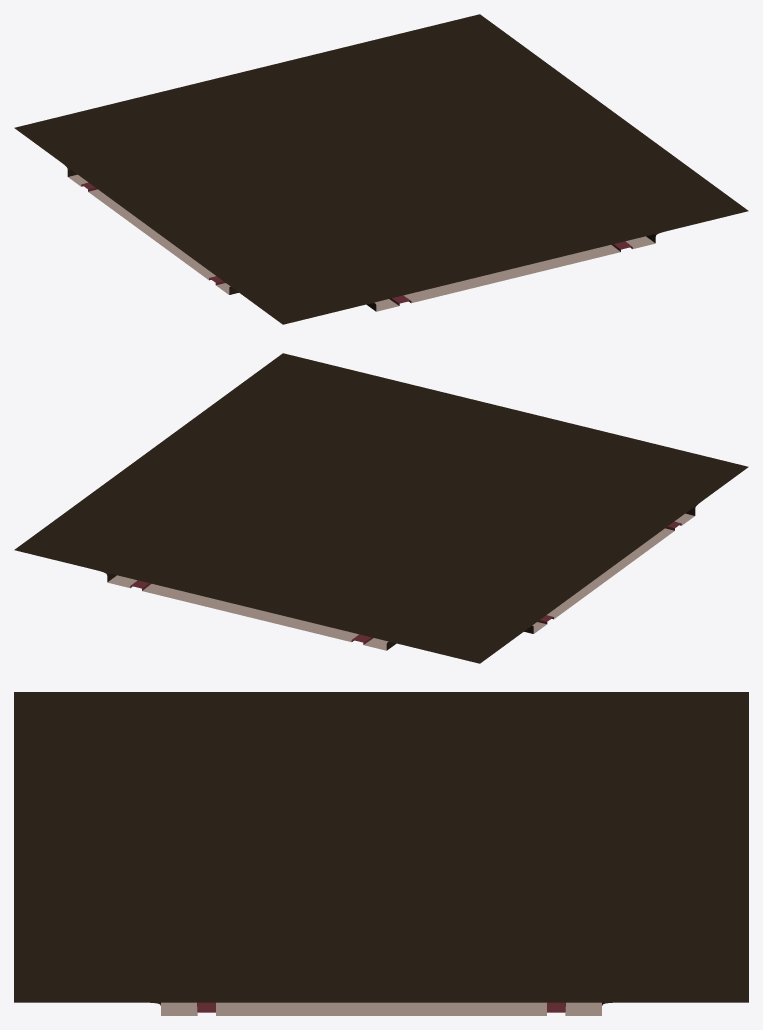
File: Roads.fbx
3 renders of one model, top to bottom at view 1: azimuth 30°, elevation 25°; view 2: azimuth 150°, elevation 25°; view 3: azimuth 270°, elevation 25°, orthographic. The views are drawn at different scales.
Parts seen in each view (by area): view 1: NoRoad, Road0, Road2A, Road2B, Road1, Road3, Road4; view 2: NoRoad, Road0, Road2B, Road2A, Road1, Road3, Road4; view 3: NoRoad, Road0, Road2B, Road2A, Road1, Road3, Road4.
Part boxes in pixels (left/top/right/bottom): NoRoad: left=14, top=15, right=747, bottom=306; Road0: left=14, top=14, right=718, bottom=304; Road2A: left=20, top=15, right=675, bottom=324; Road2B: left=29, top=15, right=668, bottom=301; Road1: left=99, top=17, right=704, bottom=294; Road3: left=17, top=18, right=713, bottom=323; Road4: left=18, top=16, right=748, bottom=311; NoRoad: left=112, top=355, right=744, bottom=663; Road0: left=19, top=354, right=736, bottom=663; Road2B: left=14, top=353, right=734, bottom=662; Road2A: left=17, top=357, right=738, bottom=635; Road1: left=52, top=370, right=747, bottom=638; Road3: left=15, top=354, right=716, bottom=662; Road4: left=65, top=355, right=747, bottom=662; NoRoad: left=14, top=692, right=748, bottom=1002; Road0: left=14, top=692, right=748, bottom=1002; Road2B: left=14, top=692, right=748, bottom=1015; Road2A: left=14, top=692, right=748, bottom=1015; Road1: left=14, top=692, right=748, bottom=1015; Road3: left=14, top=692, right=748, bottom=1015; Road4: left=14, top=692, right=746, bottom=1015.
Size of the model in its own units: 1000 by 20 by 1000.
